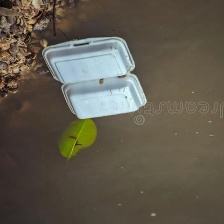foam_box: (38, 32, 150, 123)
